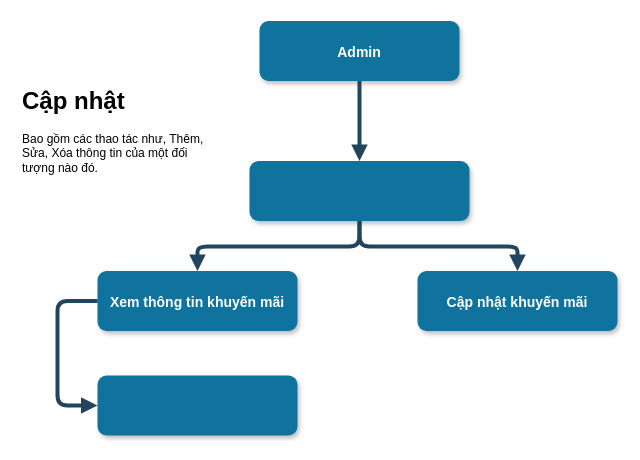
The diagram is 640 pixels wide and 460 high, and some of its shapes have lost their labels. Here are the shapes that lost their labels. From the top down, the centre of each, then its label:
point (360, 192): Quản lý khuyến mãi
point (198, 406): Thông tin khuyến mãi
